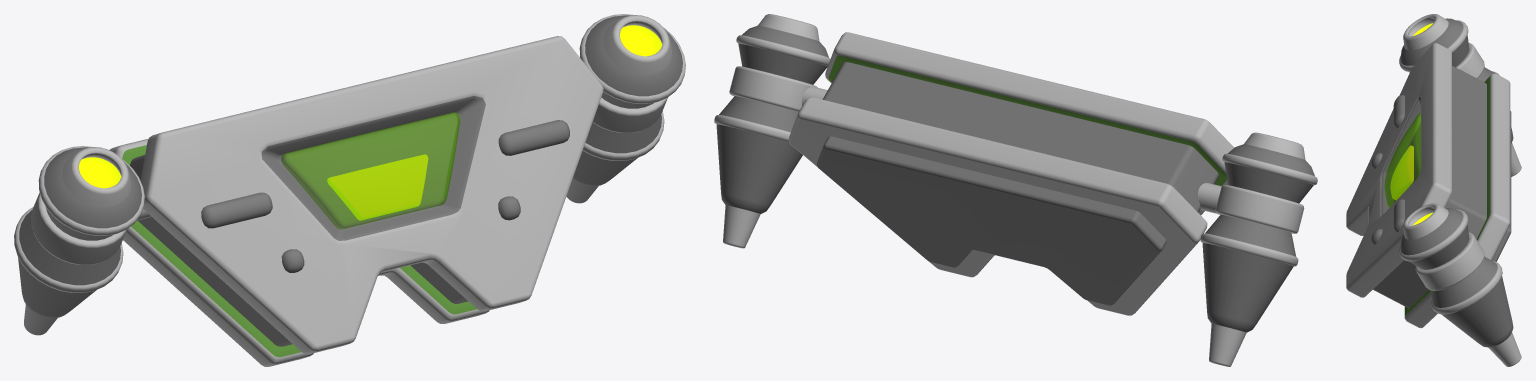
Rendered from FlyingBot.fbx.
3 renders of one model, left to right at view 1: azimuth 30°, elevation 25°; view 2: azimuth 150°, elevation 25°; view 3: azimuth 270°, elevation 25°, orthographic. The views are drawn at different scales.
Parts seen in each view (by area): view 1: FlyingBot; view 2: FlyingBot; view 3: FlyingBot.
Boxes of the visible parts, x1=… form: FlyingBot: x1=14, y1=14, x2=685, y2=366; FlyingBot: x1=714, y1=14, x2=1317, y2=366; FlyingBot: x1=1346, y1=14, x2=1521, y2=366.
Size of the model in its own units: 11.79 by 4.41 by 3.91.
